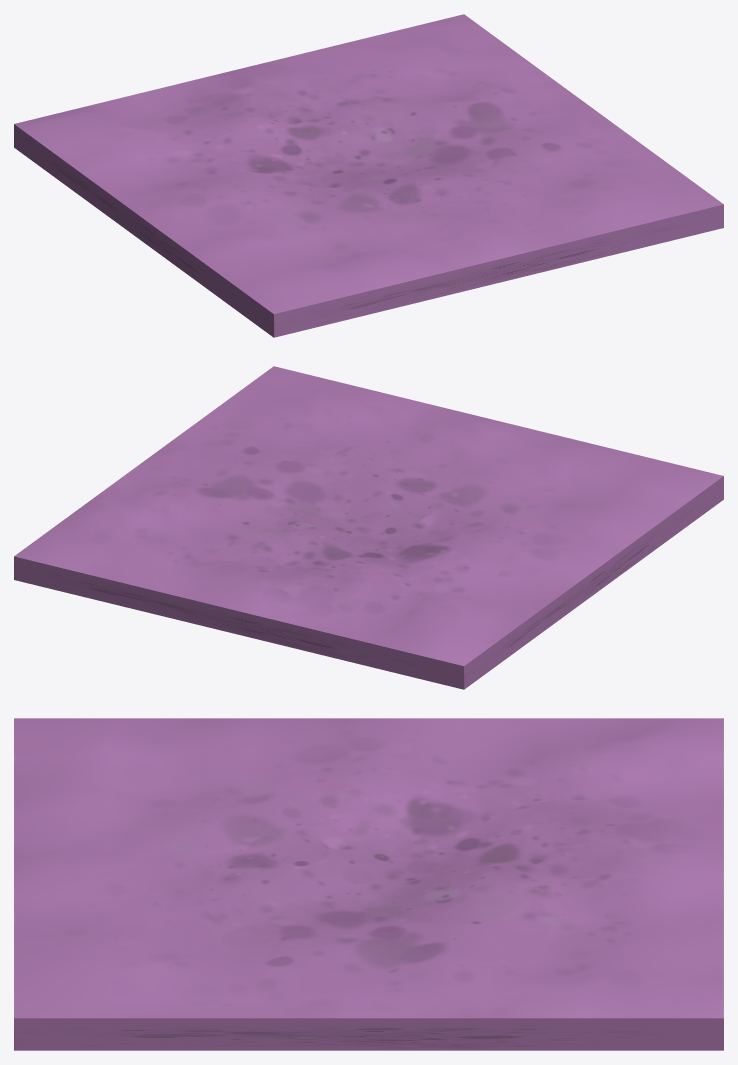
Rendered from Tile_final_lowground_01.obj.
The picture shows the model from 3 angles, top to bottom: view 1: azimuth 30°, elevation 25°; view 2: azimuth 150°, elevation 25°; view 3: azimuth 270°, elevation 25°; orthographic projection. The views are drawn at different scales.
Visible parts, largest first — view 1: Tile2.0; view 2: Tile2.0; view 3: Tile2.0.
Part boxes in pixels (x1,y1,x2,y2): Tile2.0: [14, 14, 723, 337]; Tile2.0: [14, 366, 723, 689]; Tile2.0: [14, 718, 723, 1050].
Size of the model in its own units: 10 by 0.6832 by 10.
